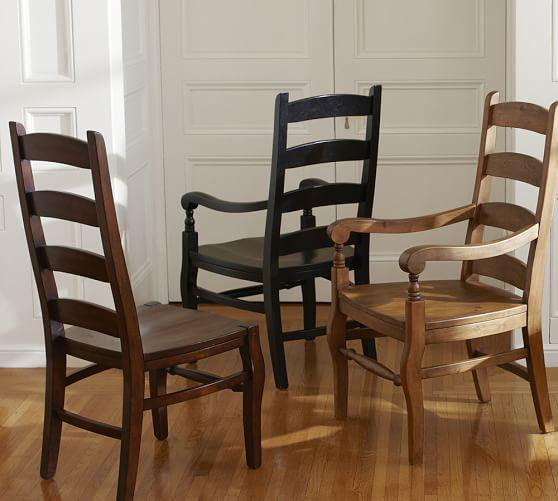chair: (1, 115, 291, 491), (326, 80, 557, 484), (174, 76, 382, 399)
